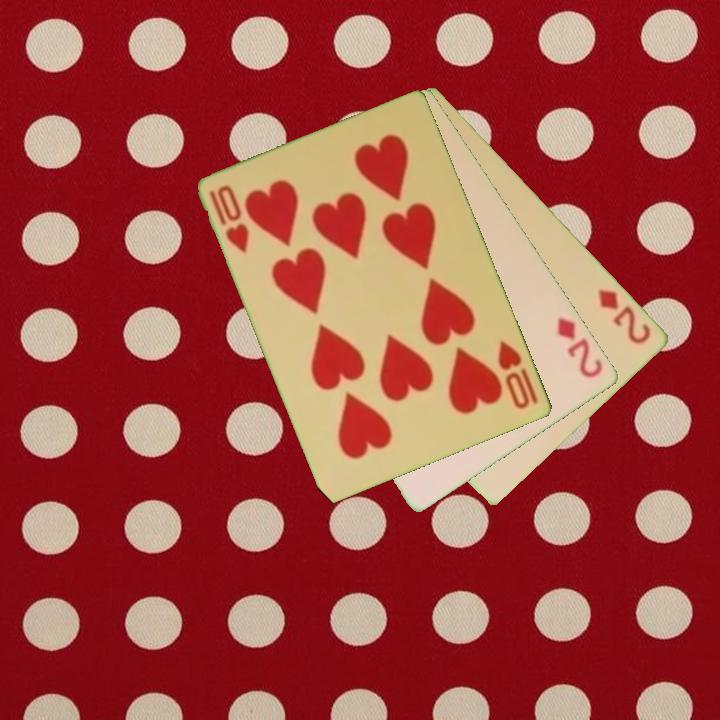10h: (494, 337, 542, 413), (206, 181, 253, 257)
2d: (595, 285, 655, 347), (554, 313, 606, 381)
